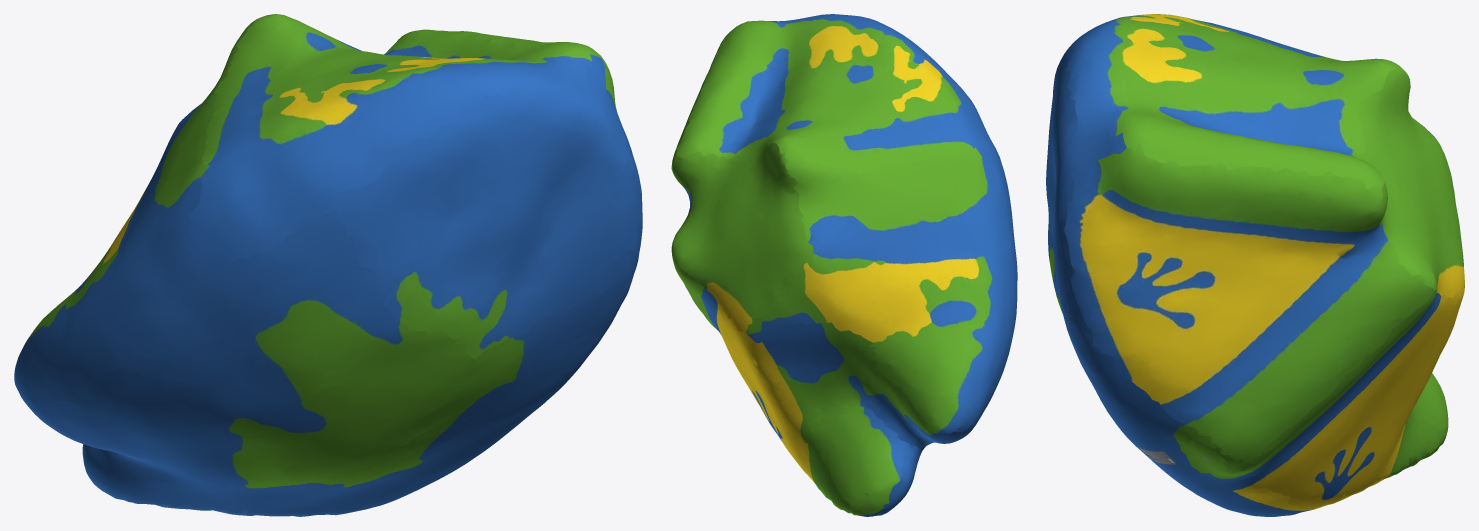
The model's file is rodeosplash.glb.
3 views of the same model, side by side, from view 1: azimuth 30°, elevation 25°; view 2: azimuth 150°, elevation 25°; view 3: azimuth 270°, elevation 25° (orthographic). The views are drawn at different scales.
Visible parts, largest first — view 1: geometry_0; view 2: geometry_0; view 3: geometry_0.
Part boxes in pixels (x1,y1,x2,y2): geometry_0: (14,14,642,516); geometry_0: (671,14,1017,516); geometry_0: (1046,14,1464,516).
Size of the model in its own units: 0.812 by 0.8127 by 0.6462.
Materials: 1 (1 with a texture image).
